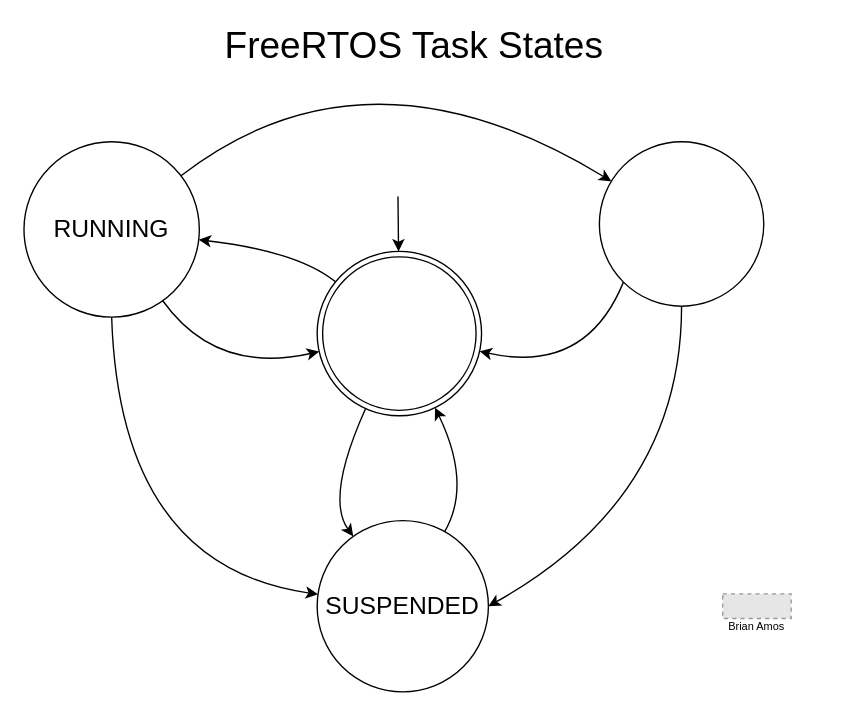
Image size: 856x715. Some labels were removed from this diagram. Grey dashed boxes stand in for pictures. Here are the shapes that lost their labels. From the top down, the centre of each, then its label:
(681,223): BLOCKED
(399,333): READY
